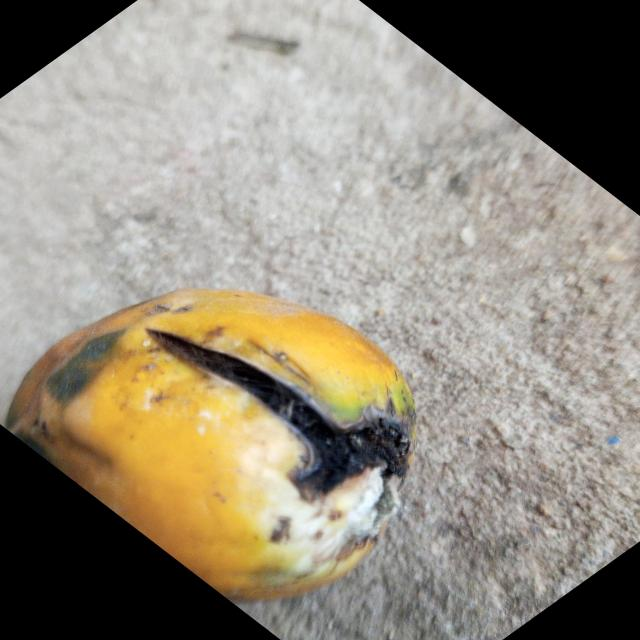damaged: (6, 290, 416, 601)
